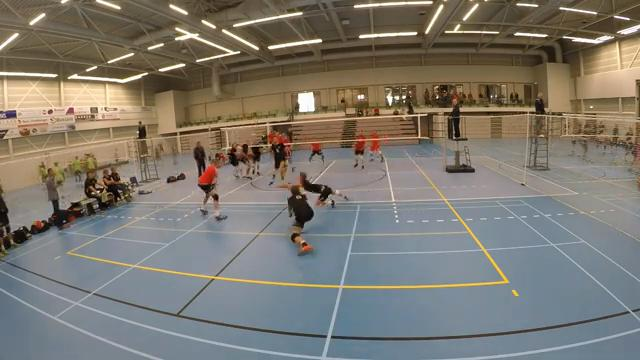difesa: (271, 177, 320, 260), (269, 167, 352, 210)
